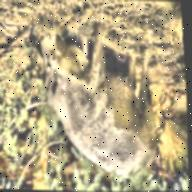boar: (32, 19, 168, 182)
